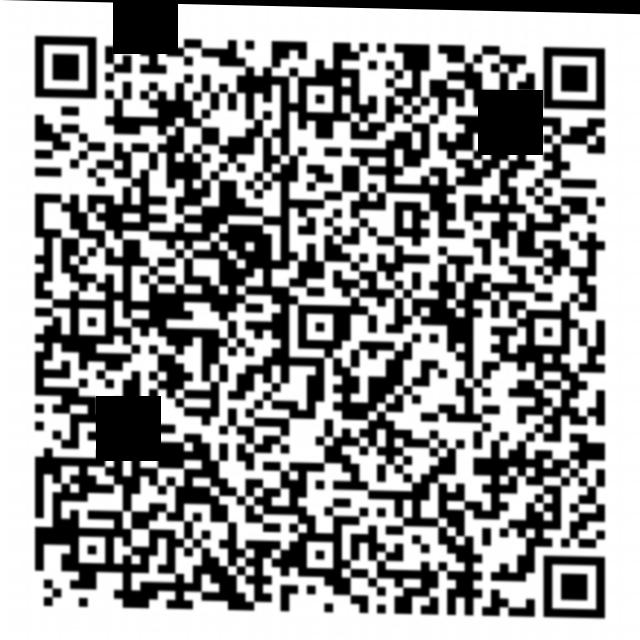QR_CODE: (19, 20, 618, 633)
